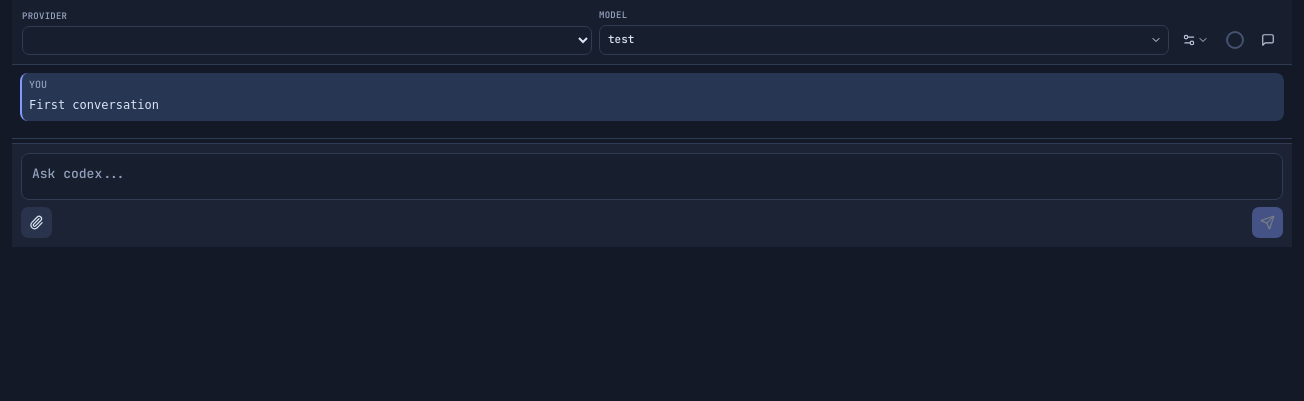
Test: timed task session controls › disables new, switch, and remove while a continuation timer owns the session
Click the button titled "Manage sessions" at (1268, 40), box [1254,26,1282,55]
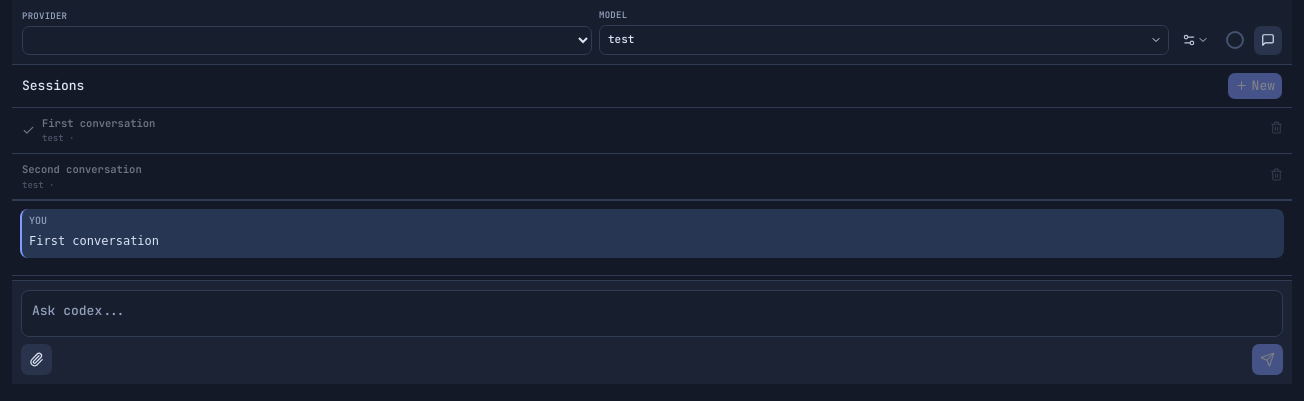
Result: the button "New" is disabled at [1228,73,1282,99]
Result: the button "First conversation test ·" is disabled at [12,108,1260,153]
Result: the button "Second conversation test ·" is disabled at [12,154,1260,199]
